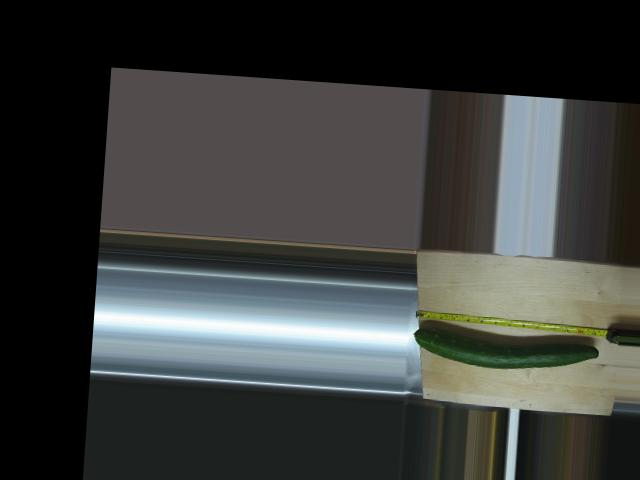cucumber: (412, 326, 600, 374)
